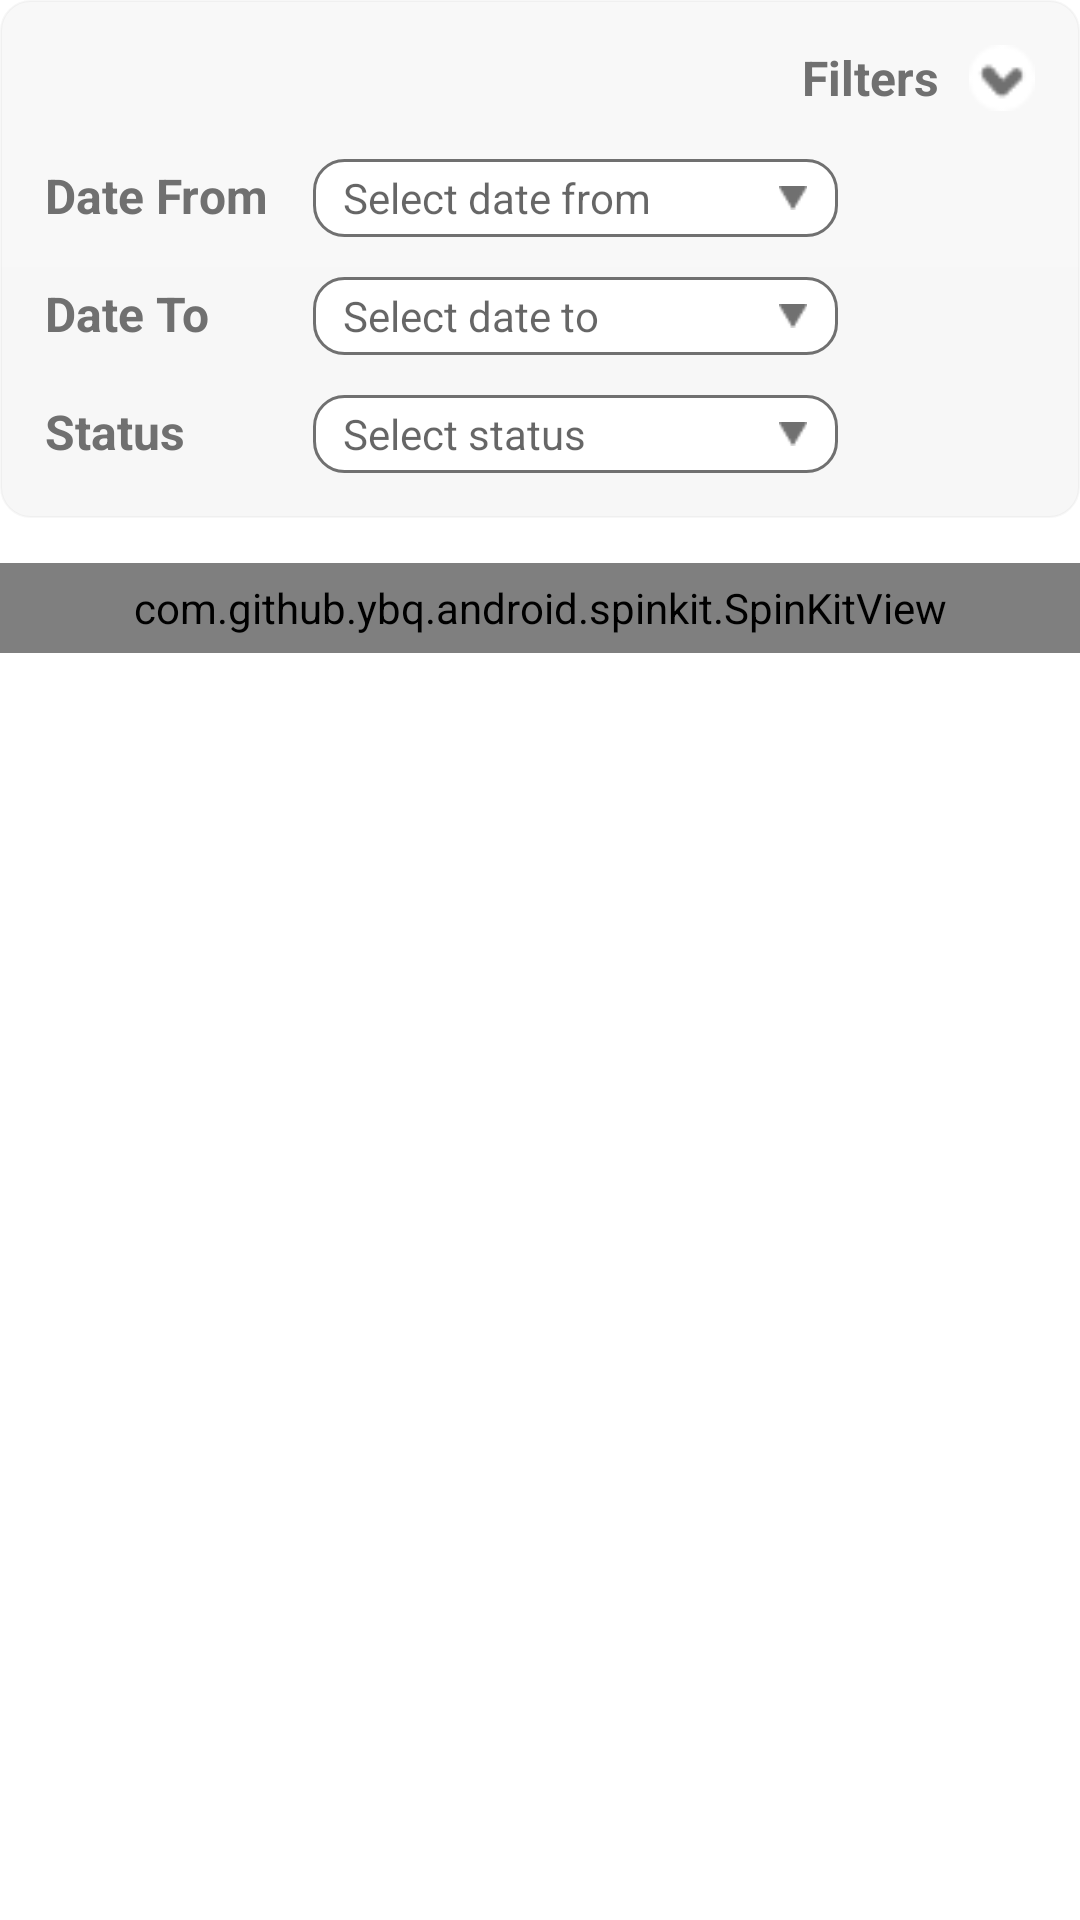

Locate icon controls on the screen. Image size 1080 × 1920, boxes as (x1, y1, x2, y2).
expand: (981, 65, 1023, 97)
